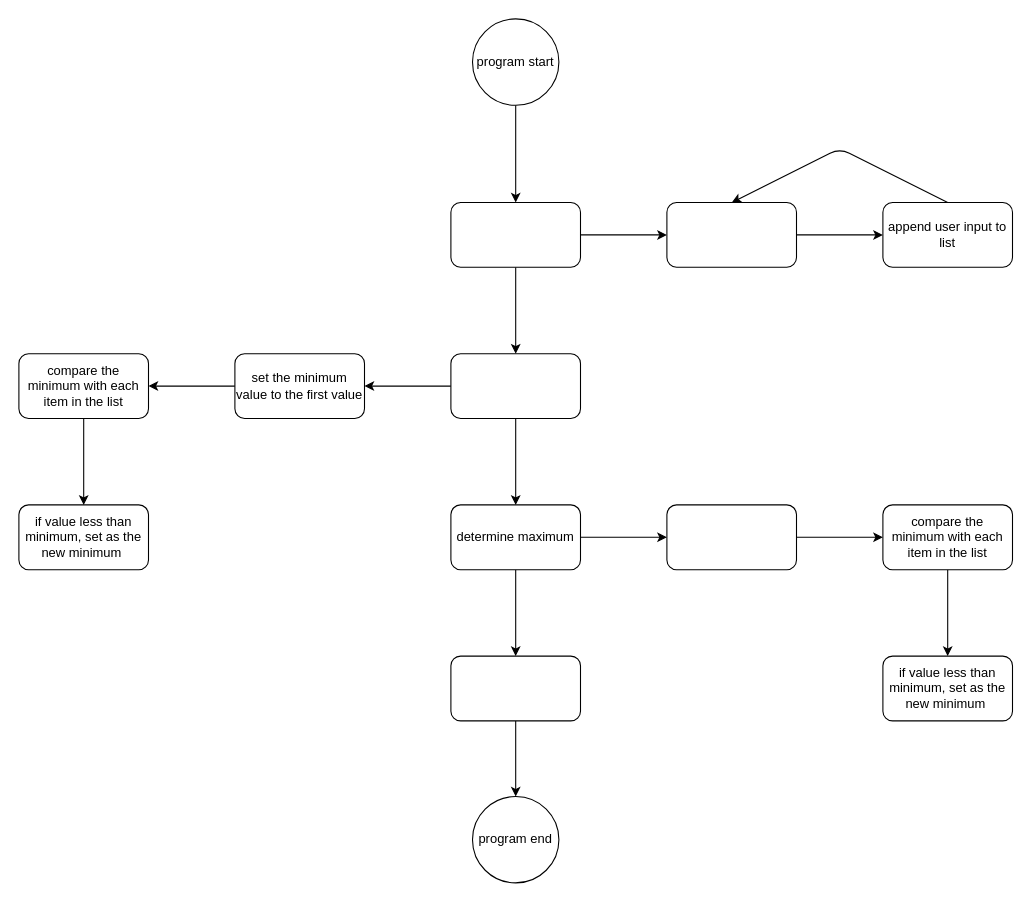
The diagram is 1031 pixels wide and 902 high, and some of its shapes have lost their labels. The centre of each missing label's shape, as x and y in pixels:
determine minimum: the point at 515,385
get list of 5 integers from user: the point at 515,234
i < 5: the point at 731,234
print list of numbers and minimum and maximum: the point at 515,688
set the maximum value to the first value: the point at 731,537
